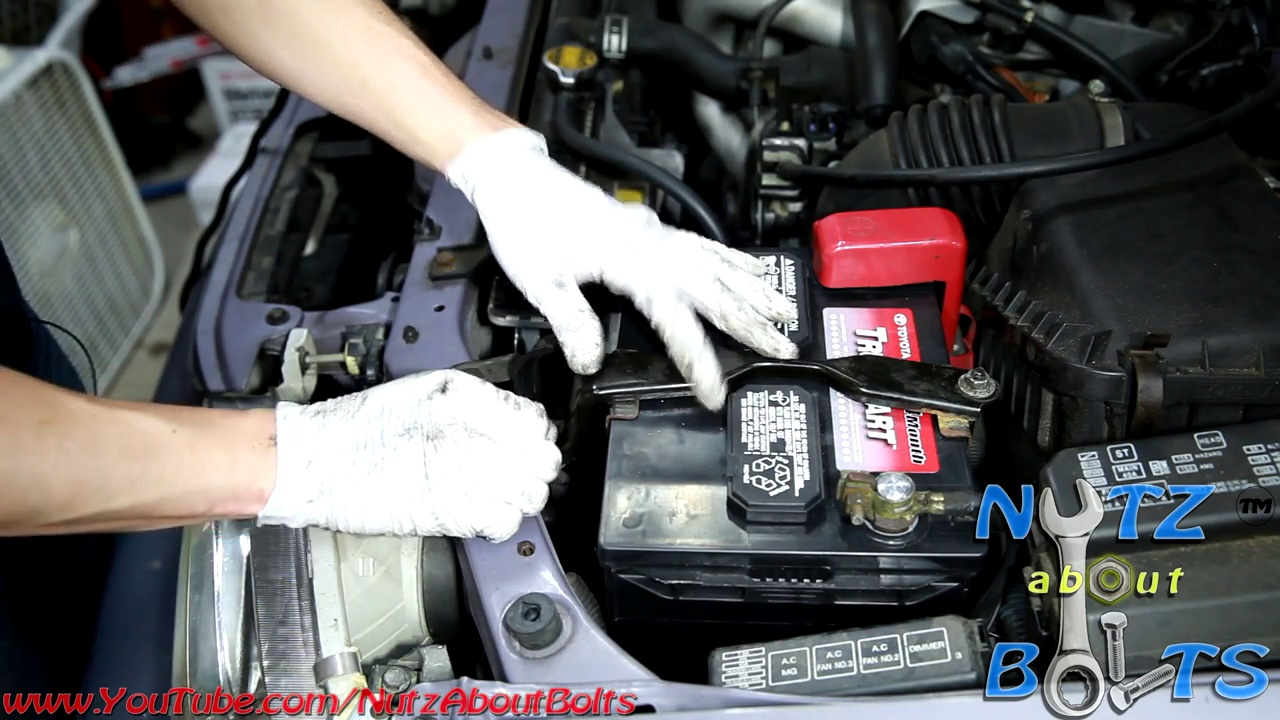battery: (604, 242, 980, 603)
neg_connected: (812, 452, 979, 543)
pos_connected: (785, 209, 978, 334)
